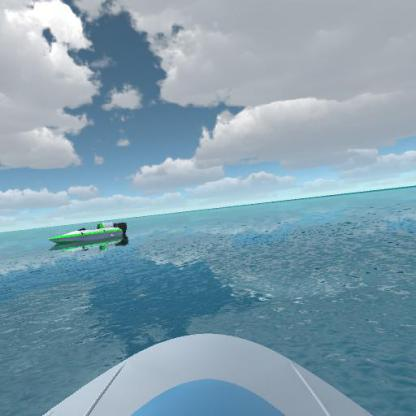usv0: (43, 215, 130, 249)
